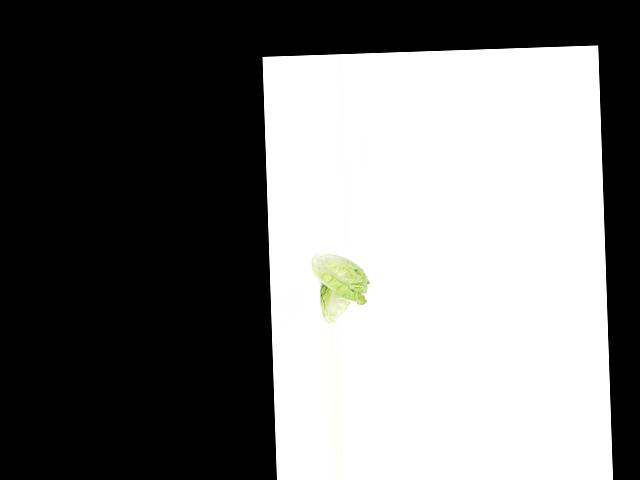lettuce: (316, 282, 353, 325)
